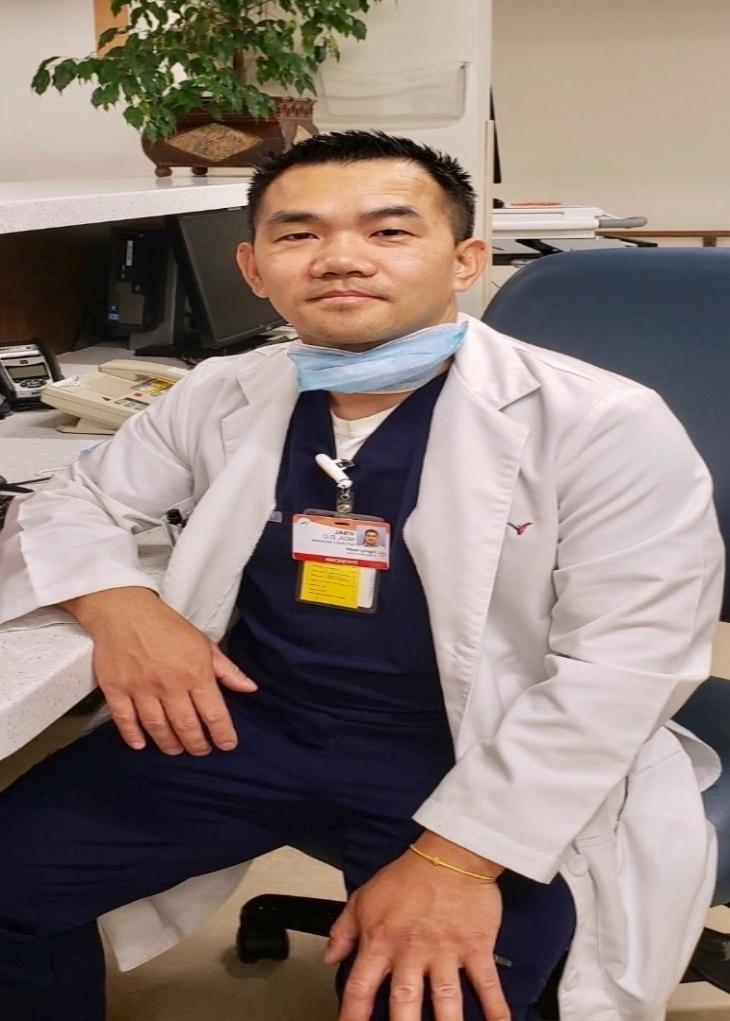mask_weared_incorrect: (240, 130, 487, 366)
